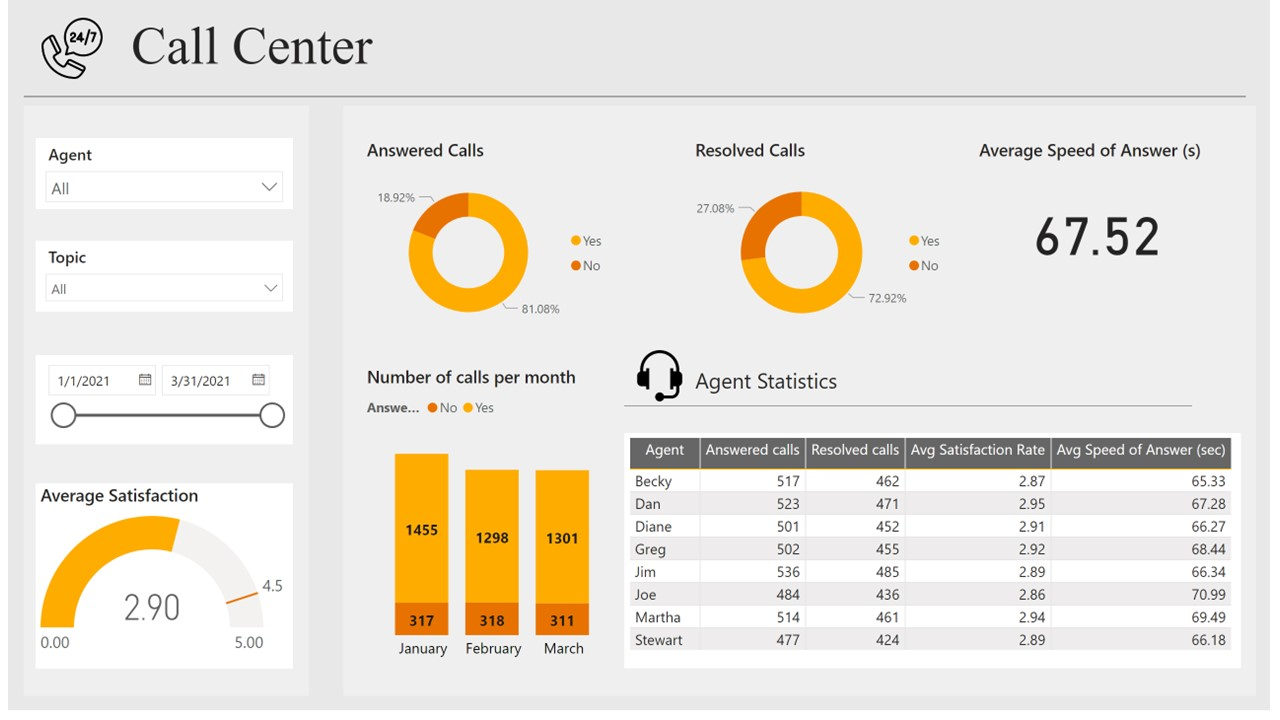

The dashboard page shown, as its layout file describes it:
{"tool":"powerbi","page":{"name":"Report","canvas":[1280,720],"ordinal":0},"visuals":[{"type":"shape","box":[340.2,107.3,926.1,598.6],"z":0},{"type":"shape","box":[15.5,107.3,289.4,598.6],"z":1000},{"type":"image","box":[9.9,11.3,110.1,76.2],"z":2000},{"type":"textbox","box":[120,11.3,388.2,76.2],"z":3000},{"type":"slicer","fields":{"Values":["Sheet1.Date"]},"box":[28.2,360,261.2,90.4],"z":4000},{"type":"gauge","title":"Average Satisfaction","fields":{"Y":["Sheet1.Satisfaction rating"],"TargetValue":["Sheet1.Target Satisfaction"],"MaxValue":["Sheet1.Max satisfaction rating"]},"box":[28.2,489.9,261.2,187.8],"z":5000},{"type":"slicer","fields":{"Values":["Sheet1.Agent"]},"box":[28.2,139.8,261.2,72],"z":6000},{"type":"slicer","fields":{"Values":["Sheet1.Topic"]},"box":[28.2,244.2,261.2,72],"z":7000},{"type":"donutChart","title":"Answered Calls","fields":{"Category":["Sheet1.Answered (Y/N)"],"Y":["Sheet1.Answered (Y/N)"]},"box":[358.6,139.8,256.9,208.9],"z":8000},{"type":"donutChart","title":"Resolved Calls","fields":{"Category":["Sheet1.Resolved (Y/N)"],"Y":["Sheet1.Resolved (Y/N)"]},"box":[691.8,139.8,266.8,208.9],"z":9000},{"type":"cardVisual","title":"Average Speed of Answer (s)","fields":{"Data":["Sheet1.Avg speed of answer"]},"box":[979.8,139.8,249.9,176.5],"z":10000},{"type":"shape","box":[15.5,87.5,1239.5,19.8],"z":11000},{"type":"columnChart","title":"Number of calls per month","fields":{"Category":["Sheet1.Date.Variation.Date Hierarchy.Month"],"Y":["Sheet1.Call Id"],"Series":["Sheet1.Answered (Y/N)"]},"box":[358.6,369.9,266.8,307.8],"z":12000},{"type":"tableEx","fields":{"Values":["Sheet1.Agent","Sheet1.Answered calls","Sheet1.Resolved calls","Sheet1.Satisfaction rating","Sheet1.Speed of answer in seconds"]},"box":[625.4,439.1,625.4,238.6],"z":13000},{"type":"textbox","box":[691.8,365.6,288,39.5],"z":14000},{"type":"shape","box":[625.4,405.2,576,12.7],"z":15000},{"type":"image","box":[629.6,348.7,62.1,63.5],"z":16000}]}

Visuals, with their boxes in screenshot pixels (x1, y1, x2, y2), scaled from the page's 1280x720 canvas onto the 1280x720 screenshot:
shape: bbox=[340, 107, 1266, 706]
shape: bbox=[16, 107, 305, 706]
image: bbox=[10, 11, 120, 88]
textbox: bbox=[120, 11, 508, 88]
slicer - Sheet1.Date: bbox=[28, 360, 289, 450]
"Average Satisfaction" gauge: bbox=[28, 490, 289, 678]
slicer - Sheet1.Agent: bbox=[28, 140, 289, 212]
slicer - Sheet1.Topic: bbox=[28, 244, 289, 316]
"Answered Calls" donutChart: bbox=[359, 140, 616, 349]
"Resolved Calls" donutChart: bbox=[692, 140, 959, 349]
"Average Speed of Answer (s)" cardVisual: bbox=[980, 140, 1230, 316]
shape: bbox=[16, 88, 1255, 107]
"Number of calls per month" columnChart: bbox=[359, 370, 625, 678]
tableEx - Sheet1.Agent x Sheet1.Answered calls: bbox=[625, 439, 1251, 678]
textbox: bbox=[692, 366, 980, 405]
shape: bbox=[625, 405, 1201, 418]
image: bbox=[630, 349, 692, 412]
